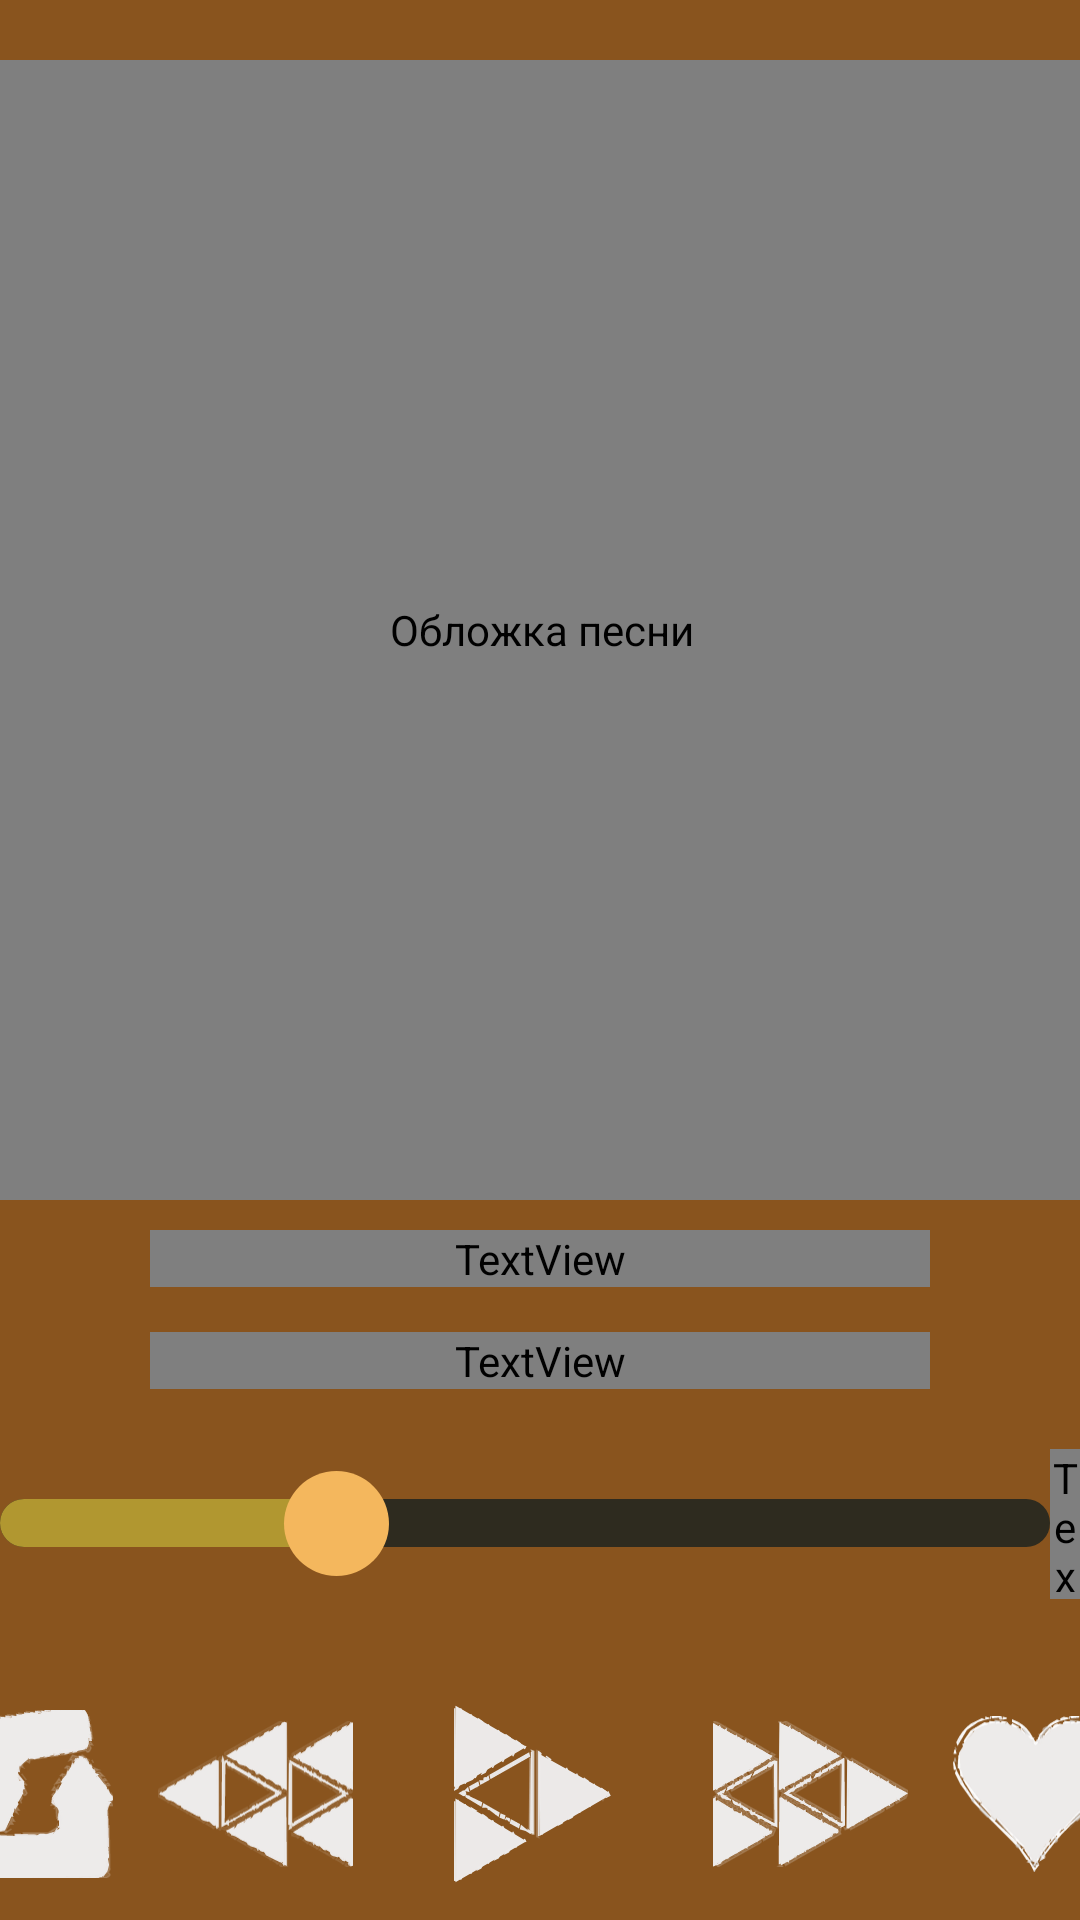

Point at icon controls on the screen. Image size 1080 x 1920, points as point (x, y).
Переключить трек вперед: point (810, 1794)
Переключить трек назад: point (255, 1794)
Продолжить музыку: point (532, 1794)
